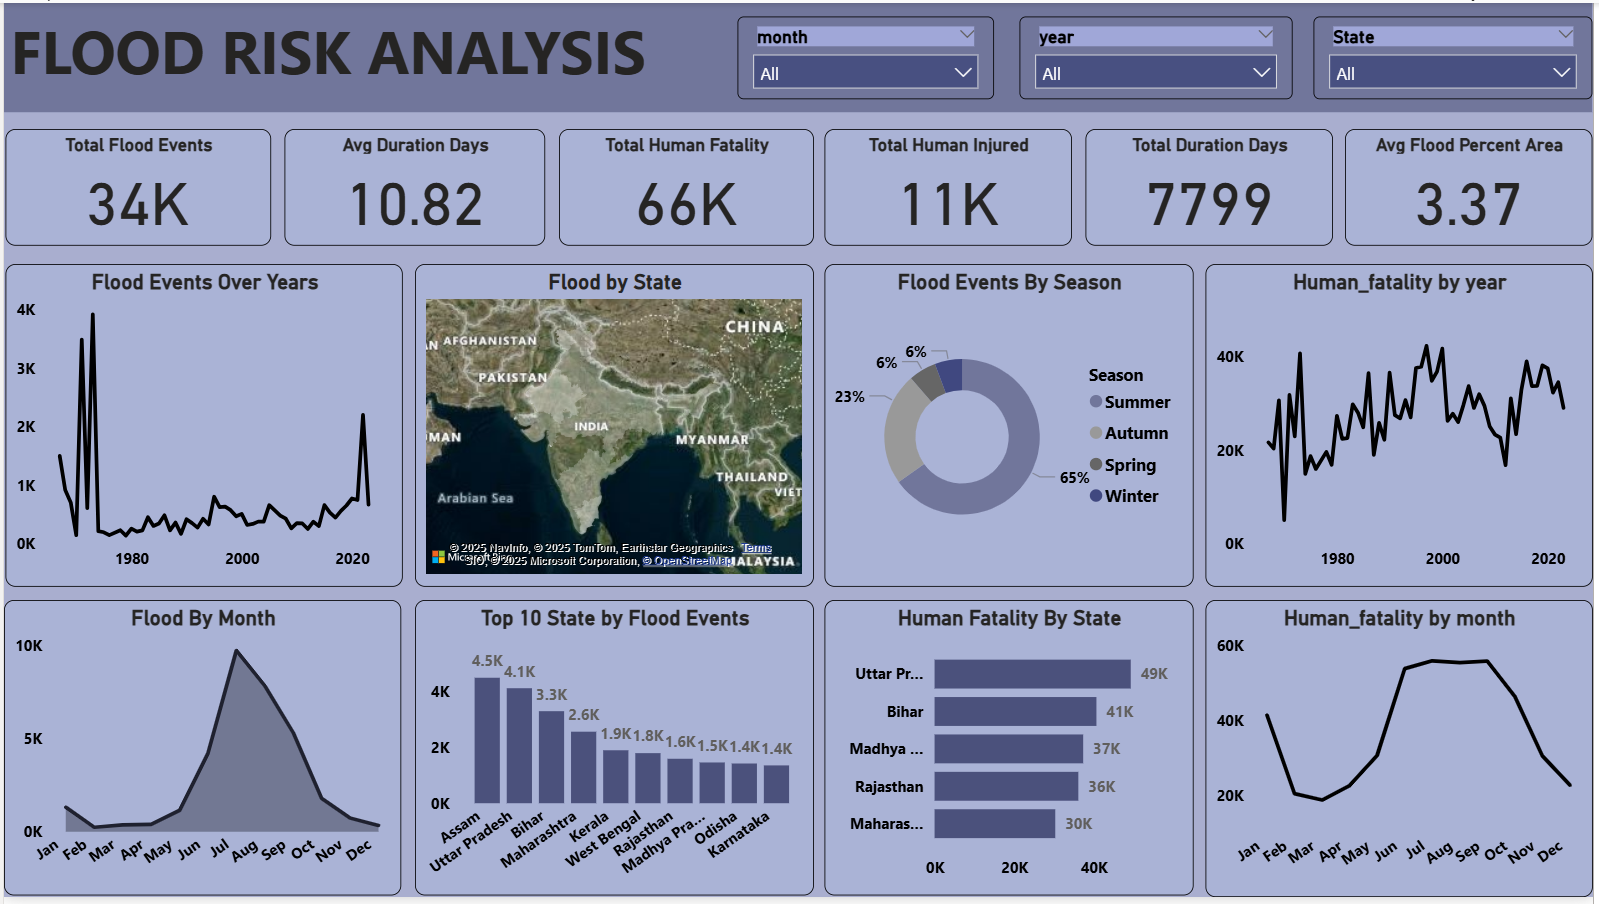

This screenshot's page, from the dashboard's own definition file:
{"tool":"powerbi","page":{"name":"Page 1","canvas":[1280,720],"ordinal":0},"visuals":[{"type":"card","title":"Avg Duration Days","fields":{"Values":["district.average duration"]},"box":[226,101.5,210.2,94.2],"z":0},{"type":"card","title":"Total Duration Days","fields":{"Values":["district.total duration"]},"box":[871.2,101.5,199.4,94.2],"z":1000},{"type":"card","title":"Total Human Fatality","fields":{"Values":["district.total human fatality"]},"box":[447.1,101.5,205.4,94.2],"z":2000},{"type":"card","title":"Total Human Injured","fields":{"Values":["district.total human injured"]},"box":[660.9,101.5,199.4,94.2],"z":3000},{"type":"card","title":"Total Flood Events","fields":{"Values":["flood.total flood events"]},"box":[1.2,101.5,213.9,94.2],"z":4000},{"type":"card","title":"Avg Flood Percent Area","fields":{"Values":["dist_pct.average flood percentage area"]},"box":[1080.2,101.5,199.4,94.2],"z":5000},{"type":"textbox","box":[0,0,1279.6,88.2],"z":6000},{"type":"lineChart","title":"Flood  Events Over Years","fields":{"Category":["calendar.year"],"Y":["CountNonNull(flood.UEI)"]},"box":[1.2,210.2,320.2,259.8],"z":7000},{"type":"stackedAreaChart","title":"Flood By Month","fields":{"Y":["flood.total flood events"],"Category":["calendar.month"]},"box":[0,480.9,320.2,238],"z":8000},{"type":"map","title":"Flood by State","fields":{"Category":["flood.State"]},"box":[331.1,210.2,321.4,259.8],"z":9000},{"type":"clusteredColumnChart","title":"Top 10 State by Flood Events","fields":{"Category":["flood.State"],"Y":["flood.total flood events"]},"box":[331.1,480.9,321.4,238],"z":10000},{"type":"donutChart","title":"Flood Events By Season","fields":{"Y":["flood.total flood events"],"Category":["calendar.month (groups)"]},"box":[660.9,210.2,297.2,259.8],"z":11000},{"type":"clusteredBarChart","title":"Human Fatality  By State","fields":{"Y":["Sum(district.Human_fatality)"],"Category":["flood.State"]},"box":[660.9,480.9,297.2,238],"z":12000},{"type":"lineChart","title":" Human_fatality by year","fields":{"Y":["Sum(district.Human_fatality)"],"Category":["calendar.year"]},"box":[967.9,210.2,311.7,259.8],"z":13000},{"type":"lineChart","title":"Human_fatality by month","fields":{"Category":["calendar.month"],"Y":["Sum(district.Human_fatality)"]},"box":[967.9,480.9,311.7,239.2],"z":14000},{"type":"slicer","fields":{"Values":["calendar.year"]},"box":[818,10.9,219.9,66.5],"z":15000},{"type":"slicer","fields":{"Values":["flood.State"]},"box":[1054.9,10.9,224.7,66.5],"z":16000},{"type":"slicer","fields":{"Values":["calendar.month"]},"box":[590.9,10.9,206.6,66.5],"z":17000}]}

Visuals, with their boxes in screenshot pixels (x1, y1, x2, y2), scaled from the page's 1280x720 canvas onto the 1599x904 screenshot:
"Avg Duration Days" card: l=282, t=127, r=545, b=246
"Total Duration Days" card: l=1088, t=127, r=1337, b=246
"Total Human Fatality" card: l=559, t=127, r=815, b=246
"Total Human Injured" card: l=826, t=127, r=1075, b=246
"Total Flood Events" card: l=1, t=127, r=269, b=246
"Avg Flood Percent Area" card: l=1349, t=127, r=1598, b=246
textbox: l=0, t=0, r=1598, b=111
"Flood  Events Over Years" lineChart: l=1, t=264, r=401, b=590
"Flood By Month" stackedAreaChart: l=0, t=604, r=400, b=903
"Flood by State" map: l=414, t=264, r=815, b=590
"Top 10 State by Flood Events" clusteredColumnChart: l=414, t=604, r=815, b=903
"Flood Events By Season" donutChart: l=826, t=264, r=1197, b=590
"Human Fatality  By State" clusteredBarChart: l=826, t=604, r=1197, b=903
" Human_fatality by year" lineChart: l=1209, t=264, r=1598, b=590
"Human_fatality by month" lineChart: l=1209, t=604, r=1598, b=903
slicer - calendar.year: l=1022, t=14, r=1297, b=97
slicer - flood.State: l=1318, t=14, r=1598, b=97
slicer - calendar.month: l=738, t=14, r=996, b=97
